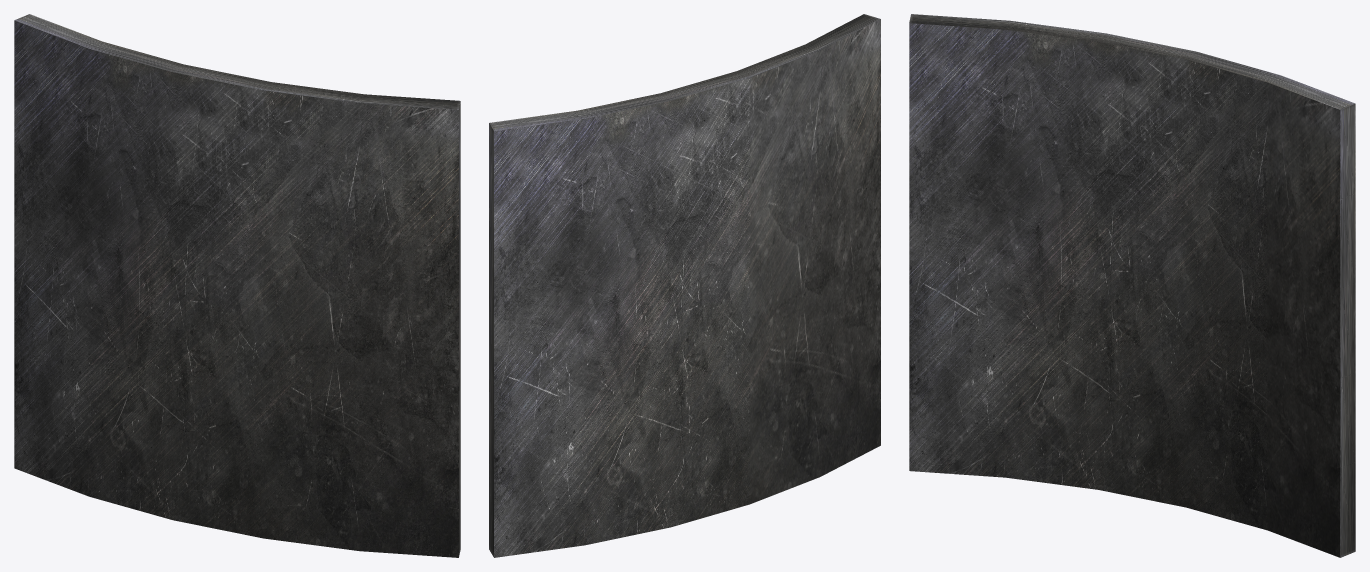
The model's file is MetalPlate.fbx.
The picture shows the model from 3 angles, left to right: view 1: azimuth 90°, elevation 25°; view 2: azimuth 150°, elevation 25°; view 3: azimuth 270°, elevation 25°; orthographic projection. The views are drawn at different scales.
Parts seen in each view (by area): view 1: Cube; view 2: Cube; view 3: Cube.
Part boxes in pixels (box(x1,y1,x2,y2)): Cube: box(14, 14, 460, 557); Cube: box(489, 14, 880, 557); Cube: box(909, 14, 1355, 557).
Bounding box in the file's own units: 132 × 288 × 260.
Materials: 1 (1 with a texture image).
